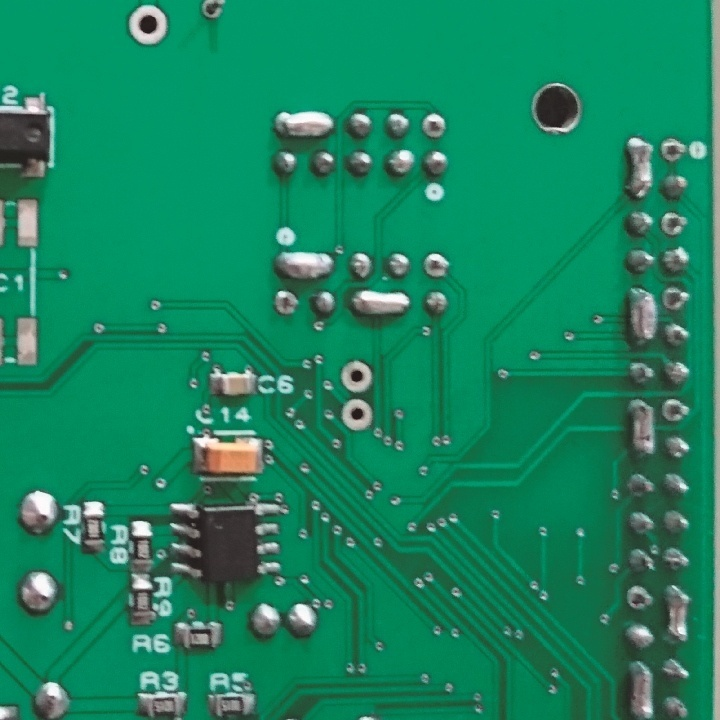F: (126, 4, 170, 48), (339, 356, 375, 397), (340, 395, 374, 435), (659, 206, 694, 238), (659, 280, 693, 312), (659, 394, 691, 425), (270, 286, 299, 318), (627, 581, 653, 616), (659, 135, 688, 166), (421, 111, 449, 141), (424, 250, 452, 280), (197, 1, 232, 20)
P: (624, 284, 659, 349), (269, 106, 334, 140), (624, 660, 659, 720), (273, 247, 335, 280), (627, 398, 658, 461), (625, 133, 653, 202), (350, 286, 412, 317), (664, 583, 692, 648)
